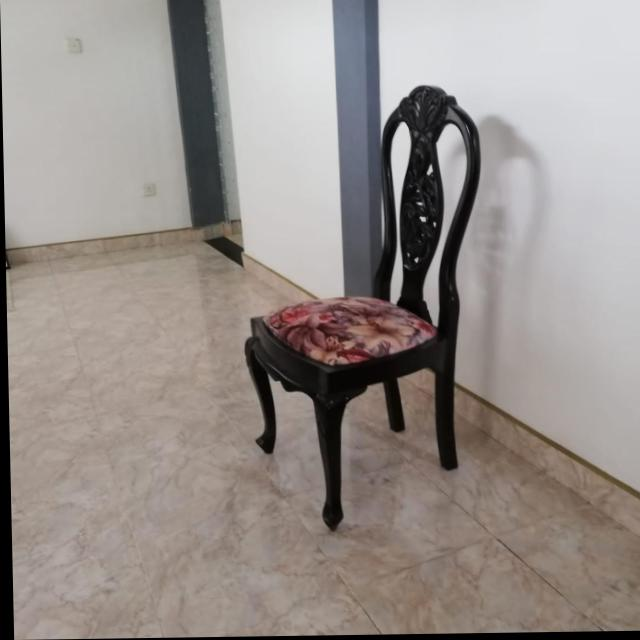Chair: (241, 83, 490, 532)
